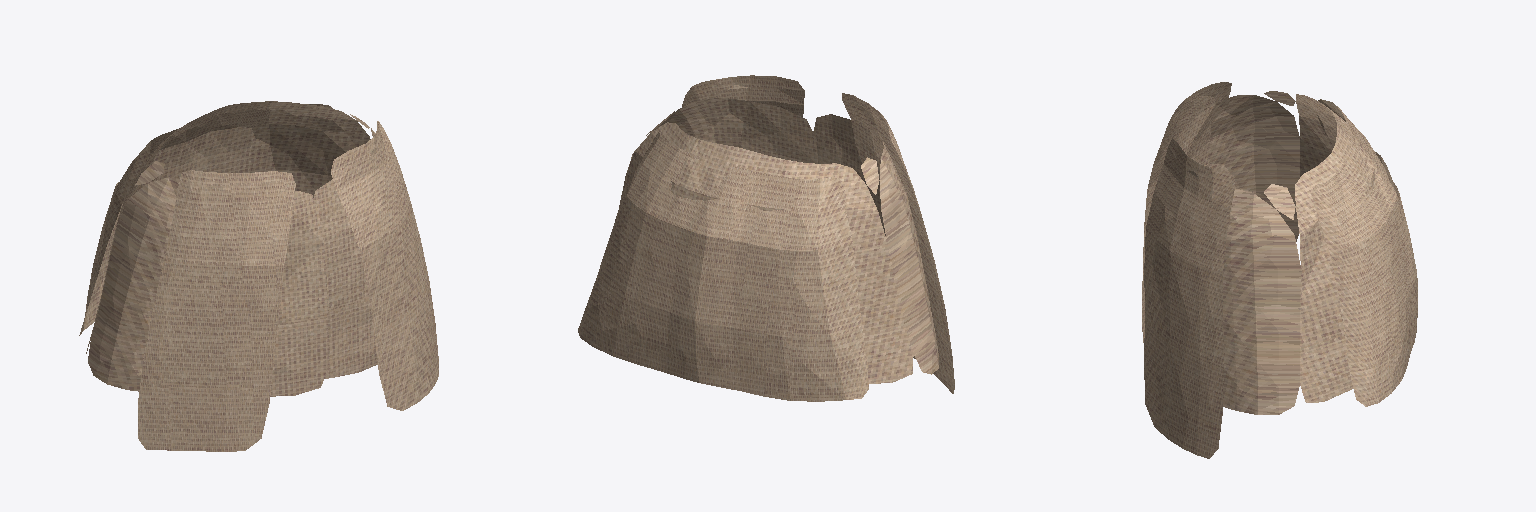
3 renders of one model, left to right at view 1: azimuth 30°, elevation 25°; view 2: azimuth 150°, elevation 25°; view 3: azimuth 270°, elevation 25°, orthographic.
Visible parts, largest first — view 1: freekimono_kimono.002; view 2: freekimono_kimono.002; view 3: freekimono_kimono.002.
Part boxes in pixels (left/top/right/bottom): freekimono_kimono.002: left=79, top=101, right=438, bottom=451; freekimono_kimono.002: left=578, top=75, right=954, bottom=401; freekimono_kimono.002: left=1142, top=82, right=1417, bottom=458.
Bounding box in the file's own units: 2.05 × 1.59 × 1.51.
2 materials, 1 textured.